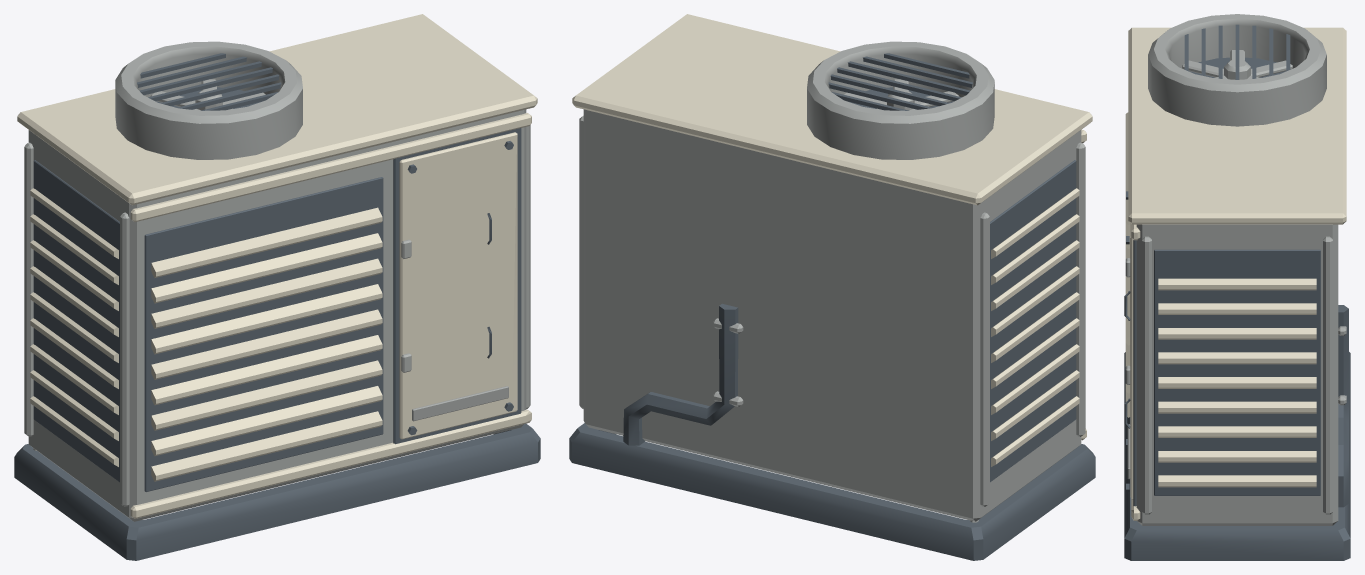
The model's file is ACCabinet.glb.
3 renders of one model, left to right at view 1: azimuth 30°, elevation 25°; view 2: azimuth 150°, elevation 25°; view 3: azimuth 270°, elevation 25°, orthographic. The views are drawn at different scales.
Parts seen in each view (by area): view 1: ACCabinet_Trim, ACCabinet_Charcoal, ACCabinet_Metal; view 2: ACCabinet_Metal, ACCabinet_Charcoal, ACCabinet_Trim; view 3: ACCabinet_Trim, ACCabinet_Charcoal, ACCabinet_Metal.
Boxes of the visible parts, <box> form: ACCabinet_Trim: <box>17,14,537,518</box>; ACCabinet_Charcoal: <box>14,53,540,560</box>; ACCabinet_Metal: <box>24,41,530,521</box>; ACCabinet_Metal: <box>579,41,1085,522</box>; ACCabinet_Charcoal: <box>569,53,1095,560</box>; ACCabinet_Trim: <box>572,14,1092,466</box>; ACCabinet_Trim: <box>1125,27,1346,520</box>; ACCabinet_Charcoal: <box>1124,24,1350,560</box>; ACCabinet_Metal: <box>1125,14,1346,525</box>.
Size of the model in its own units: 8 by 7.5 by 4.
